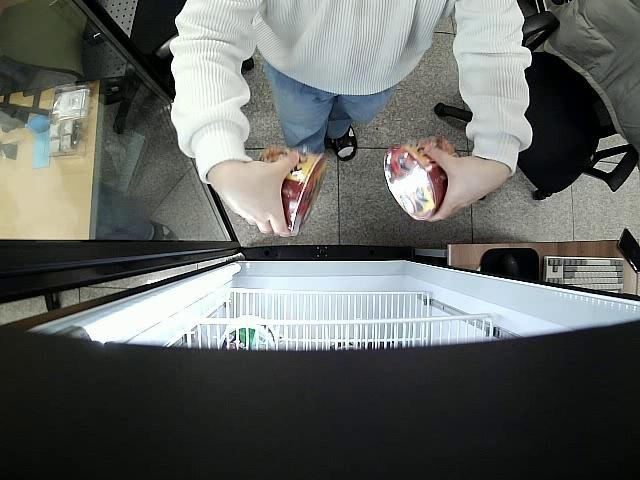05_nuguri_L: (383, 136, 454, 222), (262, 144, 326, 236)
